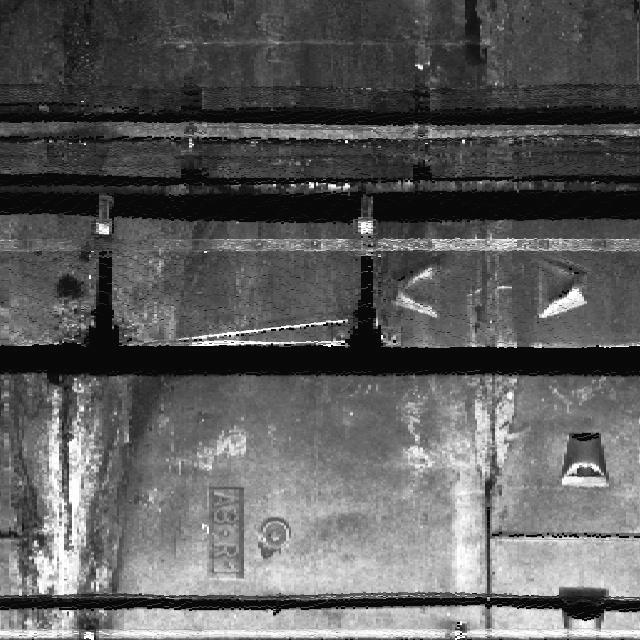leakage: (1, 375, 180, 636)
